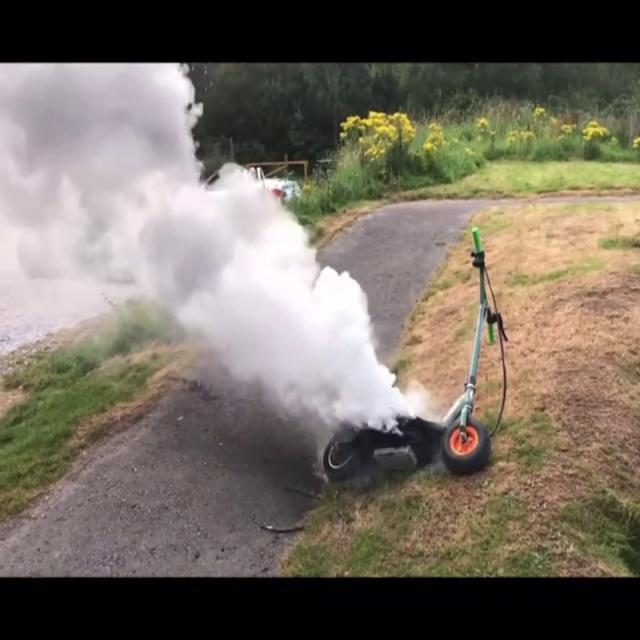Smoke: (0, 64, 260, 340), (139, 182, 402, 438)
